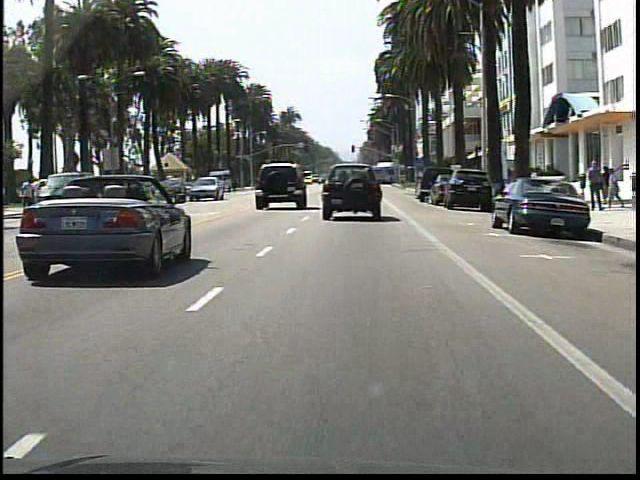person: (581, 158, 605, 216)
